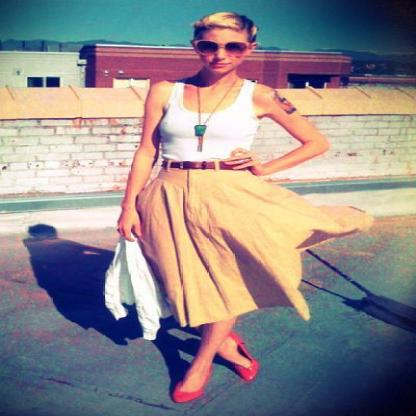bag: (104, 241, 161, 324)
shirt: (162, 77, 256, 162)
shoe: (174, 330, 259, 401)
skirt: (117, 148, 374, 324)
sunglass: (190, 25, 236, 51)
